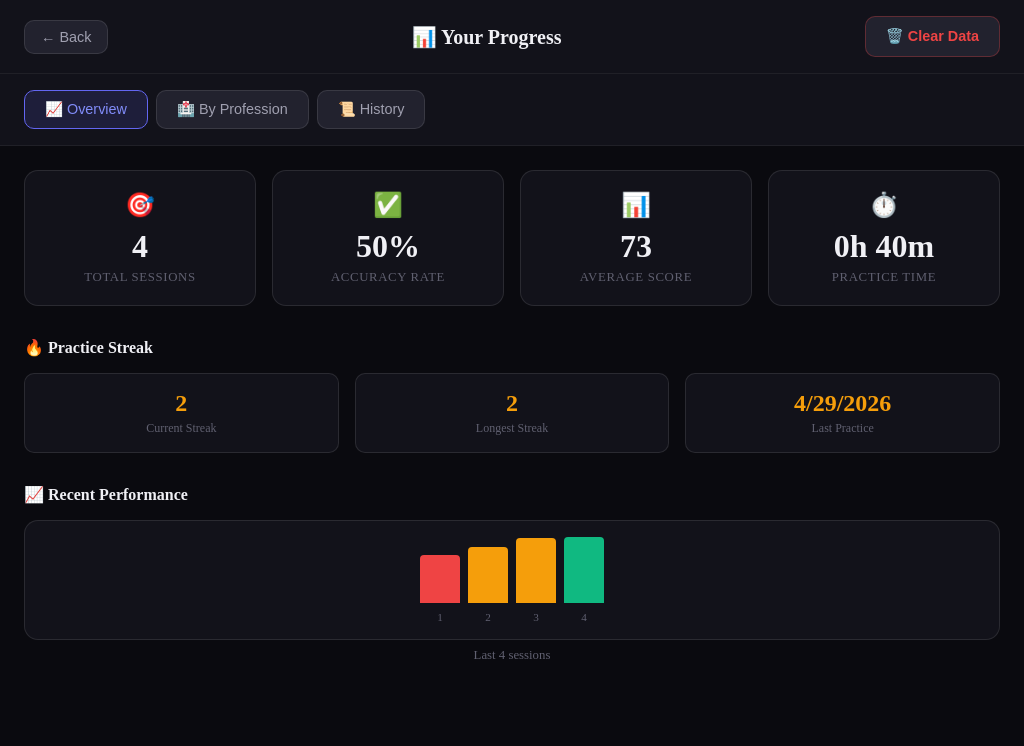
ProgressScreen › renders profession stats including empty professions
Click the button "🏥 By Profession". click: (232, 110)
box: [156,90,309,129]
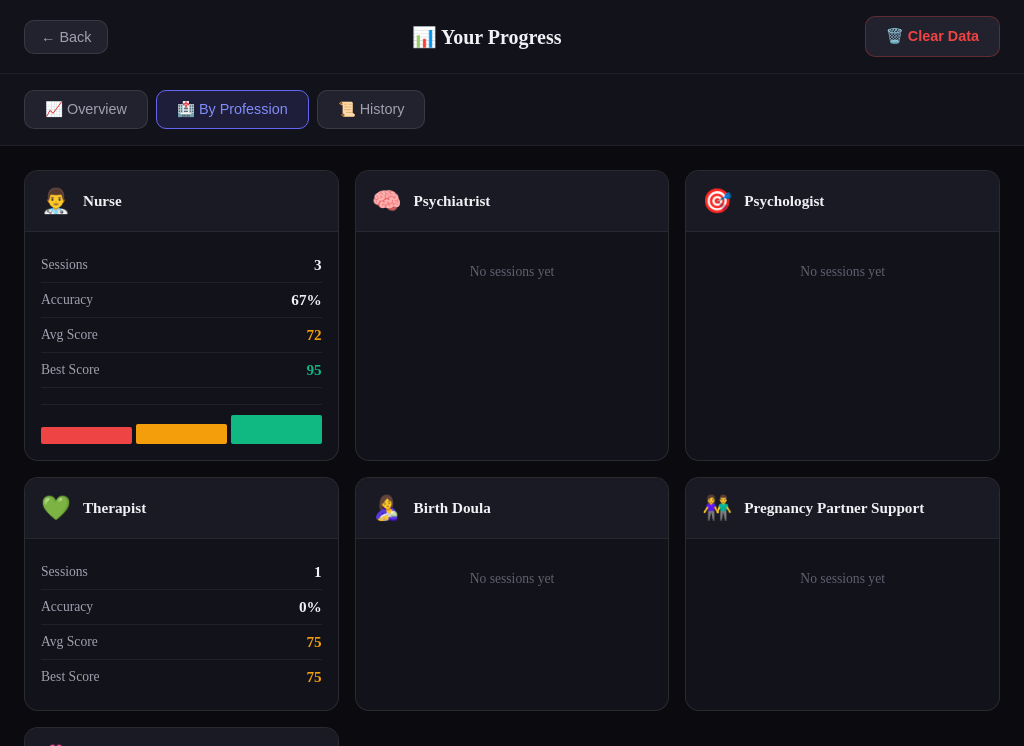
Expected: the heading "Nurse" is shown, [83,192,122,210]
Expected: the heading "Therapist" is shown, [83,499,146,517]
Expected: the text "No sessions yet" below "Psychiatrist" is shown, [470,264,554,279]
